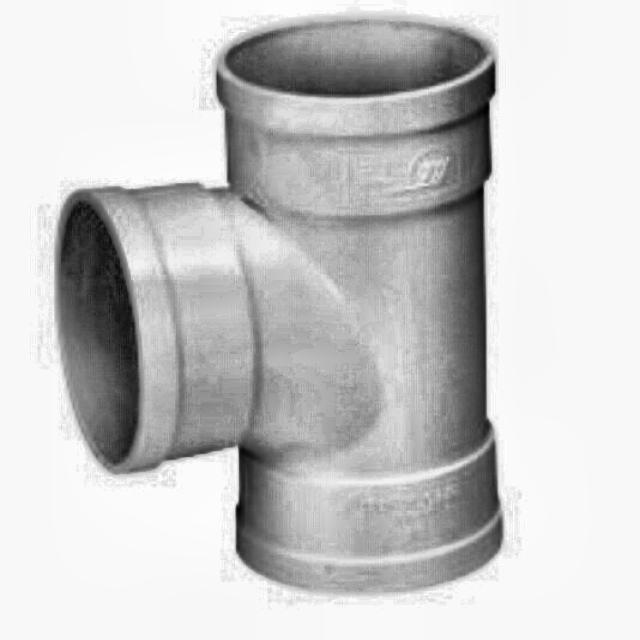EQUALTEE: (53, 16, 506, 597)
